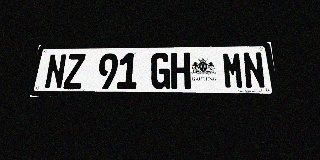1: (117, 53, 138, 89)
9: (97, 53, 119, 89)
G: (150, 53, 170, 89)
H: (171, 52, 191, 89)
M: (222, 52, 245, 89)
N: (242, 52, 266, 89), (44, 54, 67, 89)
Z: (63, 54, 86, 89)
